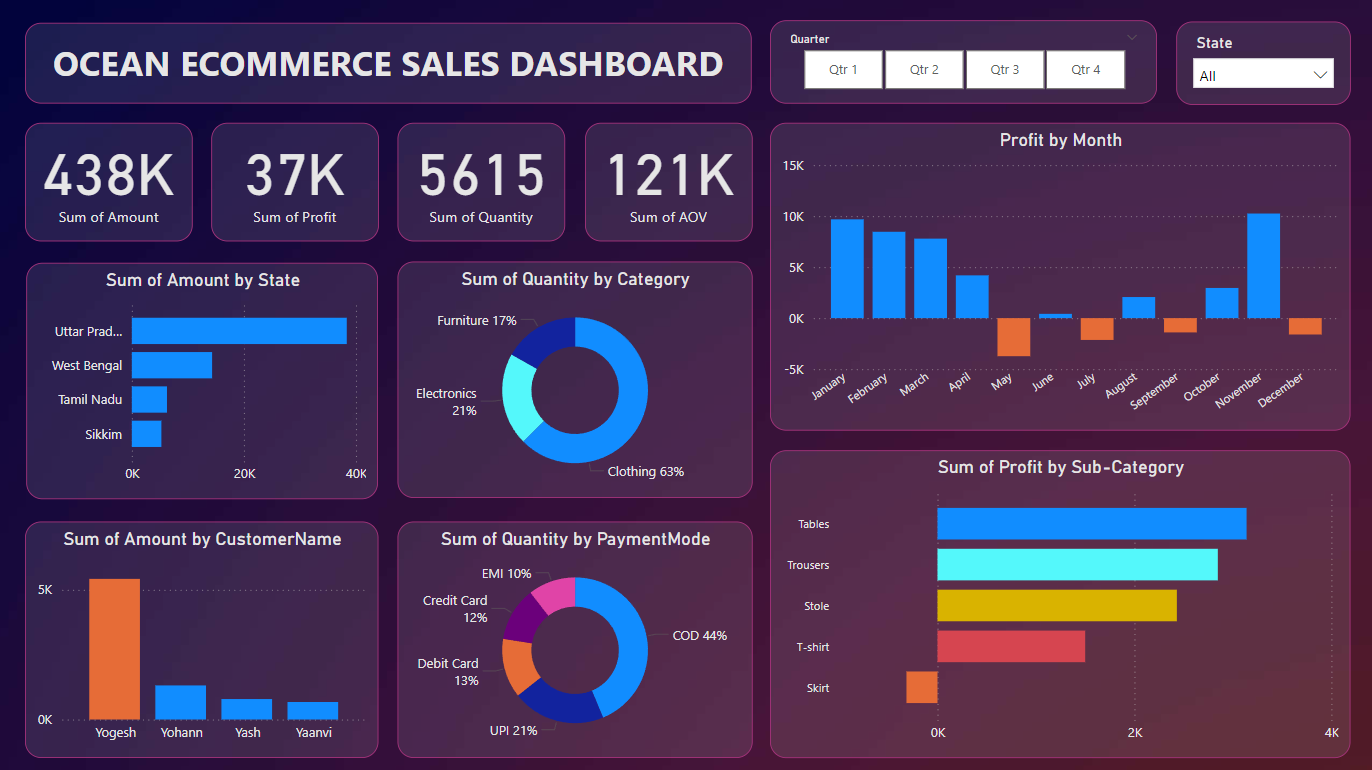

Layout of this report page (visuals, bound fields, positions):
{"tool":"powerbi","page":{"name":"Page 1","canvas":[1280,720],"ordinal":0},"visuals":[{"type":"columnChart","title":"Profit by Month","fields":{"Y":["Details.Profit"],"Category":["Orders.Order Date.Variation.Date Hierarchy.Month"]},"box":[716.2,115,540,286],"z":0},{"type":"barChart","fields":{"Category":["Details.Sub-Category"],"Y":["Details.Profit"]},"box":[716.2,420,540,286.2],"z":1000},{"type":"donutChart","fields":{"Y":["Details.Quantity"],"Category":["Details.Category"]},"box":[370,244.6,330,220],"z":2000},{"type":"donutChart","fields":{"Y":["Details.Quantity"],"Category":["Details.PaymentMode"]},"box":[370,486.2,330,220],"z":3000},{"type":"barChart","fields":{"Y":["Details.Amount"],"Category":["Orders.State"]},"box":[25,245,327.5,220],"z":4000},{"type":"columnChart","fields":{"Y":["Details.Amount"],"Category":["Orders.CustomerName"]},"box":[23.8,486.2,328.8,220],"z":5000},{"type":"card","fields":{"Values":["Details.Amount"]},"box":[23.8,115.2,156.2,110],"z":6000},{"type":"card","fields":{"Values":["Details.Profit"]},"box":[196.2,115.2,156.2,110],"z":7000},{"type":"card","fields":{"Values":["Details.Quantity"]},"box":[370,115.2,156.2,110],"z":8000},{"type":"card","fields":{"Values":["Details.AOV"]},"box":[543.8,115.2,156.2,110],"z":9000},{"type":"textbox","box":[23.8,22.5,676.2,75],"z":10000},{"type":"slicer","fields":{"Values":["Orders.Order Date.Variation.Date Hierarchy.Quarter"]},"box":[716.2,20,360,77.5],"z":11000},{"type":"slicer","fields":{"Values":["Orders.State"]},"box":[1093.8,21.2,162.5,77.5],"z":12000}]}

Visuals, with their boxes in screenshot pixels (x1, y1, x2, y2), scaled from the page's 1280x720 canvas onto the 1372x770 screenshot:
"Profit by Month" columnChart: region(768, 123, 1346, 429)
barChart - Details.Sub-Category x Details.Profit: region(768, 449, 1346, 755)
donutChart - Details.Quantity x Details.Category: region(397, 262, 750, 497)
donutChart - Details.Quantity x Details.PaymentMode: region(397, 520, 750, 755)
barChart - Details.Amount x Orders.State: region(27, 262, 378, 497)
columnChart - Details.Amount x Orders.CustomerName: region(26, 520, 378, 755)
card - Details.Amount: region(26, 123, 193, 241)
card - Details.Profit: region(210, 123, 378, 241)
card - Details.Quantity: region(397, 123, 564, 241)
card - Details.AOV: region(583, 123, 750, 241)
textbox: region(26, 24, 750, 104)
slicer - Orders.Order Date.Variation.Date Hierarchy.Quarter: region(768, 21, 1154, 104)
slicer - Orders.State: region(1172, 23, 1347, 106)
